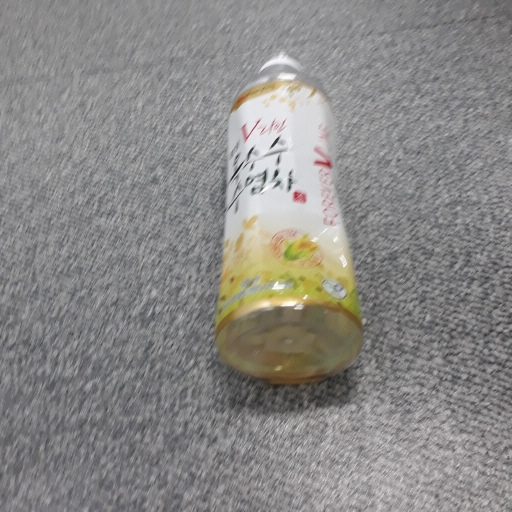Plastic_0: (217, 47, 367, 381)
